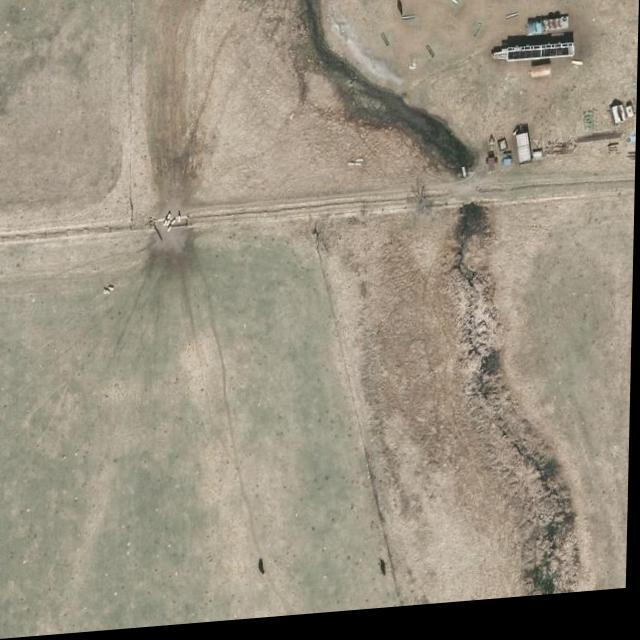vehicle: (526, 26, 569, 45)
